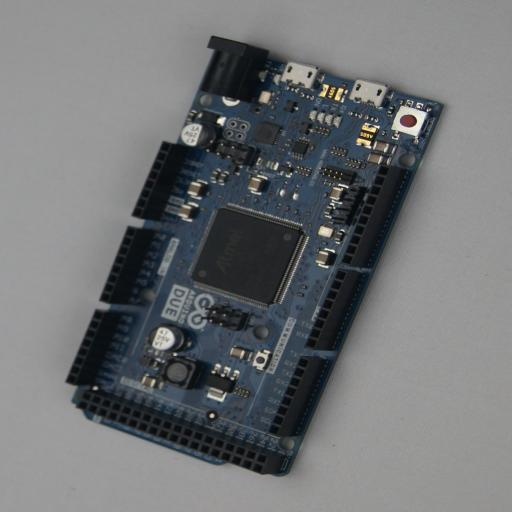Arduino Due: (65, 36, 445, 476)
